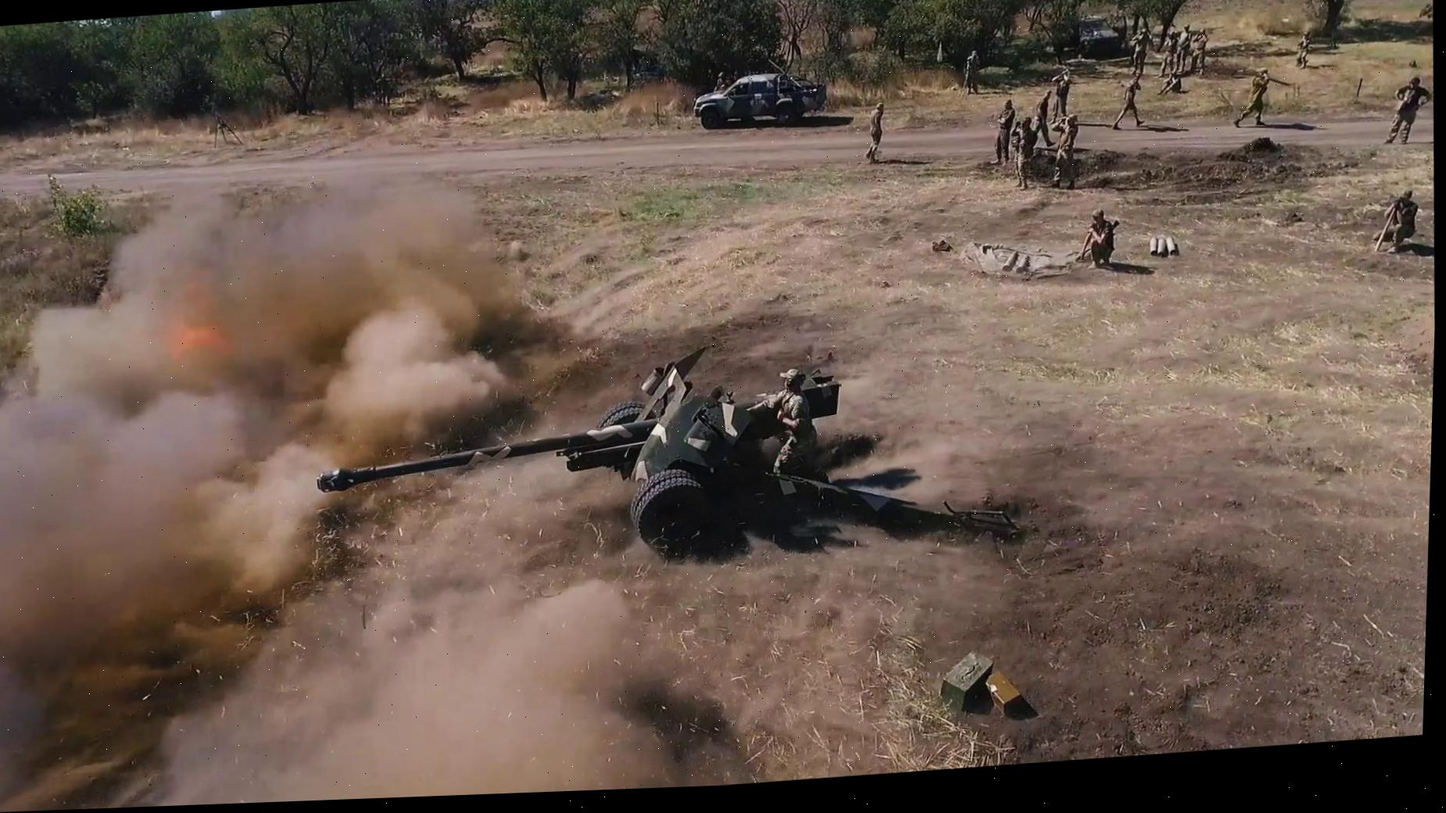car: (691, 68, 829, 130)
person: (761, 359, 820, 506), (1378, 71, 1435, 144), (1367, 186, 1418, 254), (1073, 207, 1121, 270), (1043, 111, 1080, 191), (1229, 64, 1271, 129), (985, 95, 1017, 167), (1108, 74, 1147, 131), (1009, 114, 1036, 189), (1025, 86, 1057, 149), (859, 100, 888, 164), (1043, 67, 1075, 123), (1126, 25, 1155, 80), (1169, 22, 1194, 74), (1184, 26, 1209, 77), (1156, 28, 1180, 77), (961, 47, 982, 94), (1157, 69, 1184, 97), (1292, 30, 1310, 70)
sau: (302, 320, 1020, 587)
